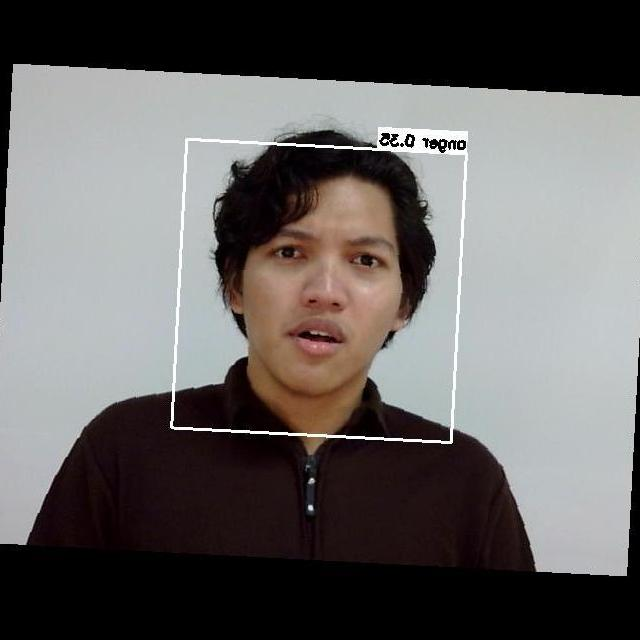Surprised: (232, 200, 412, 372)
